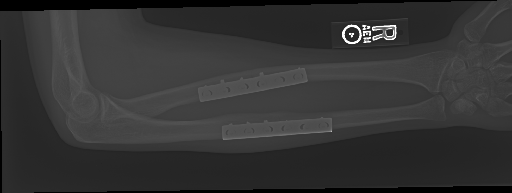implant: (196, 66, 312, 104), (220, 114, 335, 143)
